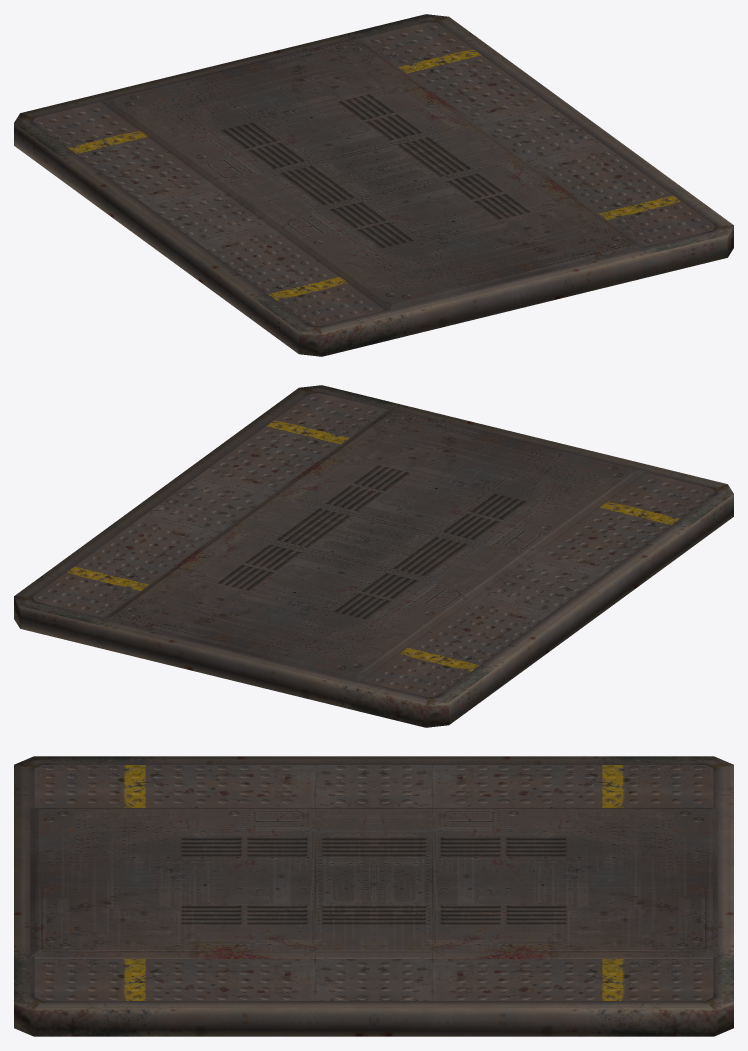
File: Floor_E_2'5qmts_01.fbx
3 renders of one model, top to bottom at view 1: azimuth 30°, elevation 25°; view 2: azimuth 150°, elevation 25°; view 3: azimuth 270°, elevation 25°, orthographic. The views are drawn at different scales.
Parts seen in each view (by area): view 1: Floor_E_2'5qmts_01; view 2: Floor_E_2'5qmts_01; view 3: Floor_E_2'5qmts_01.
Part boxes in pixels (left/top/right/bottom): Floor_E_2'5qmts_01: left=14, top=14, right=733, bottom=356; Floor_E_2'5qmts_01: left=14, top=385, right=733, bottom=727; Floor_E_2'5qmts_01: left=14, top=756, right=733, bottom=1036.
Bounding box in the file's own units: 250 × 13.81 × 300.
Materials: 1 (1 with a texture image).
